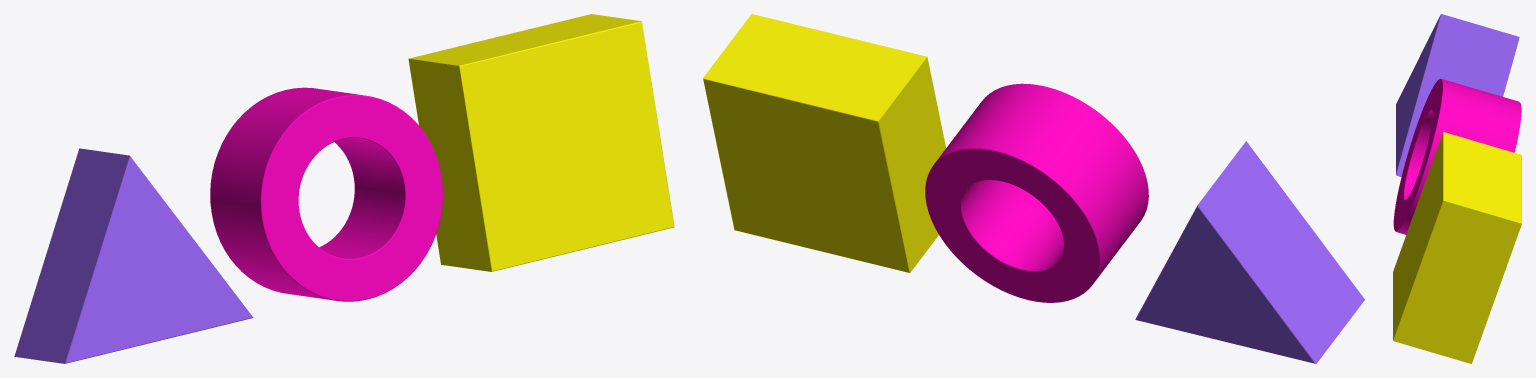
The model's file is thrmodel.glb.
The picture shows the model from 3 angles, left to right: view 1: azimuth 30°, elevation 25°; view 2: azimuth 150°, elevation 25°; view 3: azimuth 270°, elevation 25°; orthographic projection. The views are drawn at different scales.
Visible parts, largest first — view 1: Rectangle 75, Ellipse 15, Polygon 10; view 2: Rectangle 75, Ellipse 15, Polygon 10; view 3: Rectangle 75, Polygon 10, Ellipse 15.
Part boxes in pixels (left/top/right/bottom): Rectangle 75: left=408, top=14, right=674, bottom=271; Ellipse 15: left=210, top=87, right=442, bottom=301; Polygon 10: left=14, top=148, right=253, bottom=363; Rectangle 75: left=703, top=14, right=945, bottom=272; Ellipse 15: left=925, top=83, right=1148, bottom=302; Polygon 10: left=1135, top=141, right=1364, bottom=363; Rectangle 75: left=1393, top=132, right=1521, bottom=363; Polygon 10: left=1396, top=14, right=1519, bottom=176; Ellipse 15: left=1393, top=78, right=1521, bottom=234.
Bounding box in the file's own units: 25 × 8.33 × 5.96.
